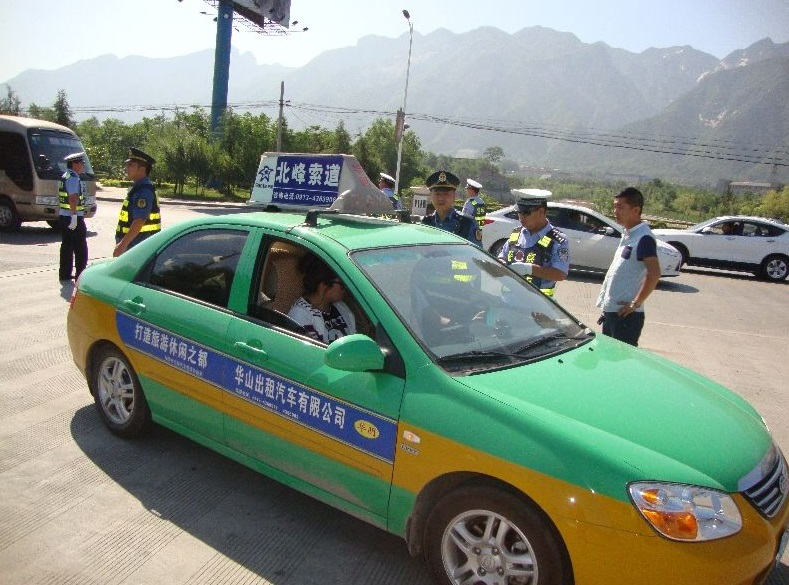taxi: (63, 151, 789, 585)
